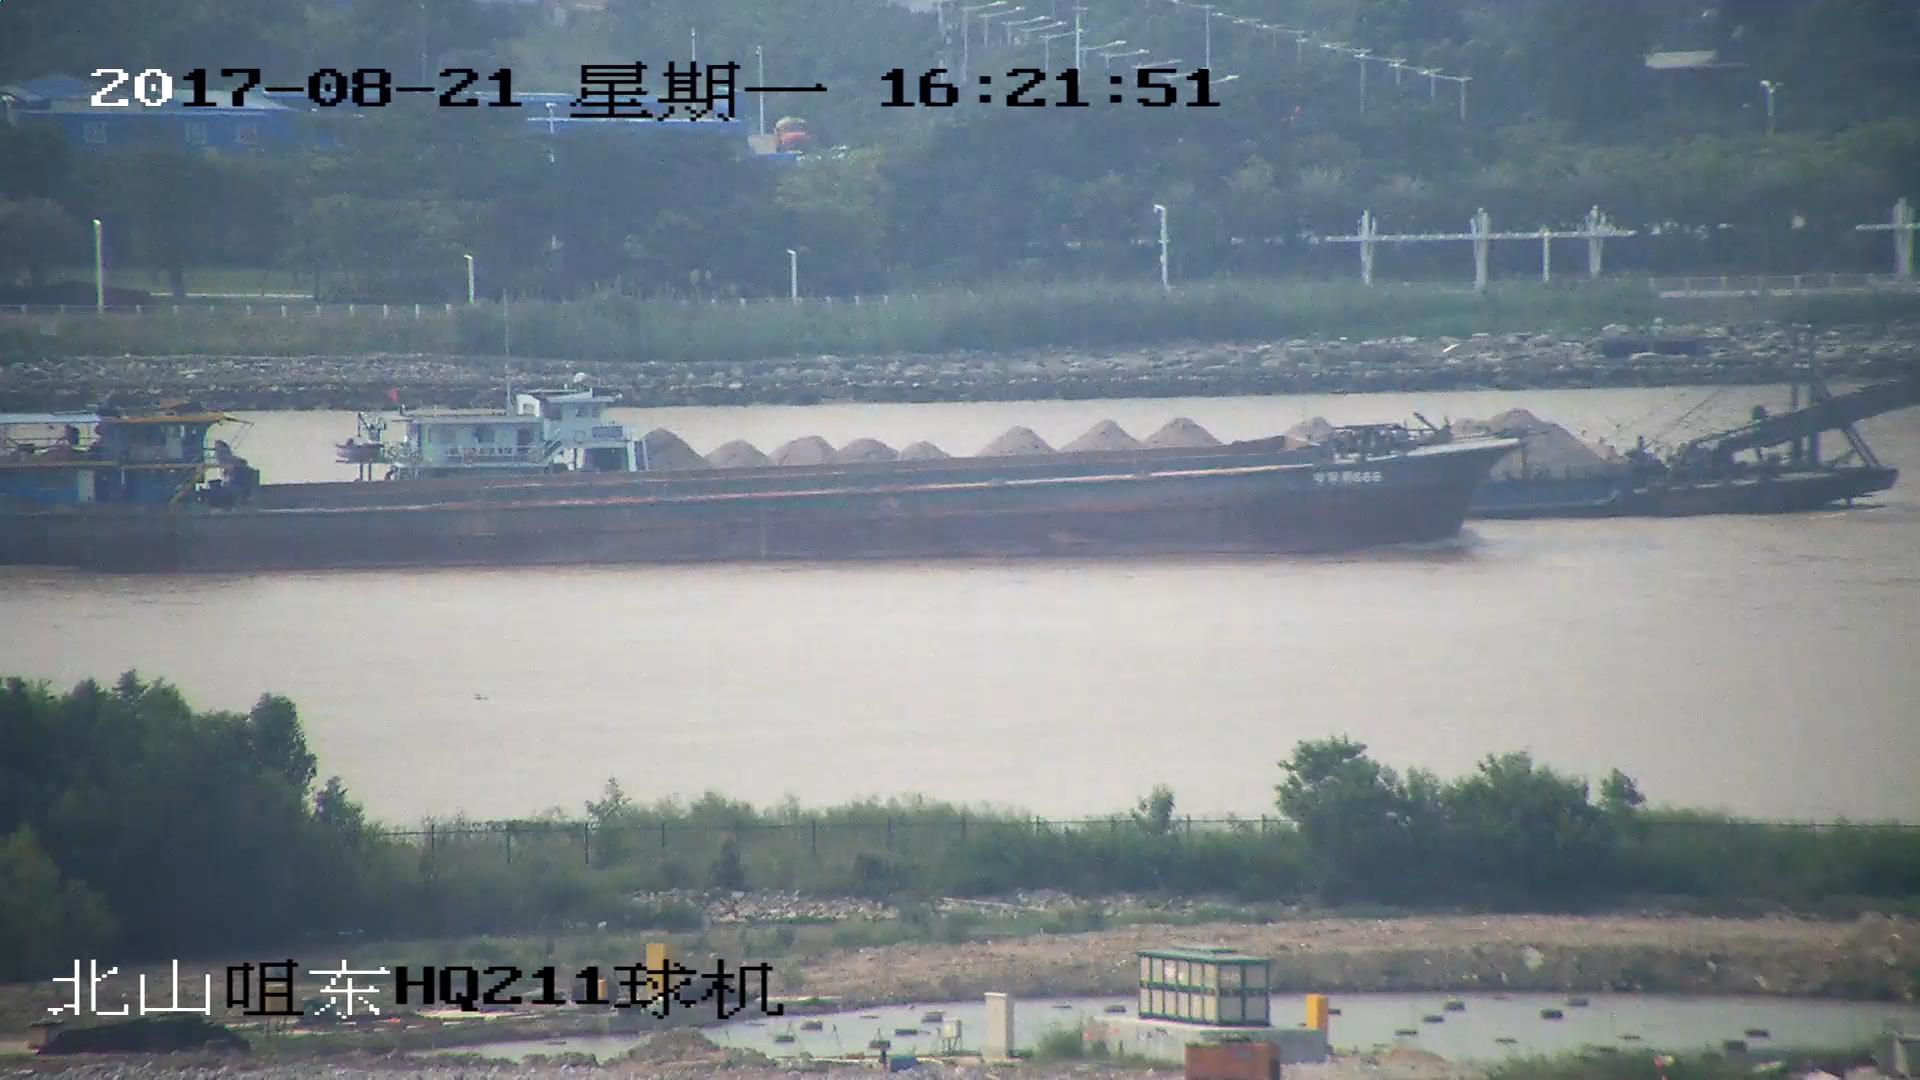bulk cargo carrier: (1, 397, 1519, 574)
ore carrier: (340, 333, 1920, 516)
